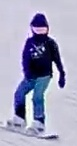snowboarder: (1, 13, 66, 139)
